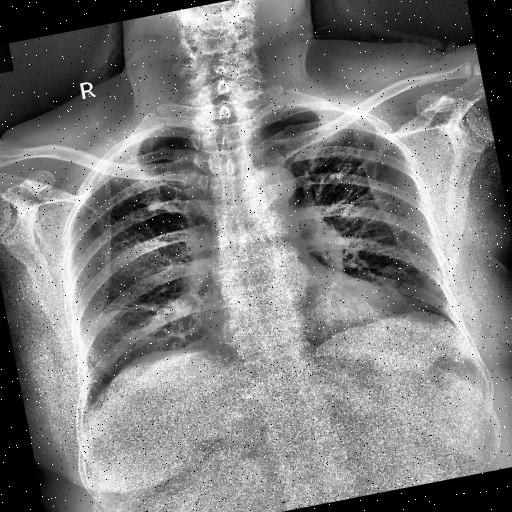0- Aortic enlargement: (236, 162, 302, 217), (240, 161, 302, 215), (246, 160, 302, 208)
